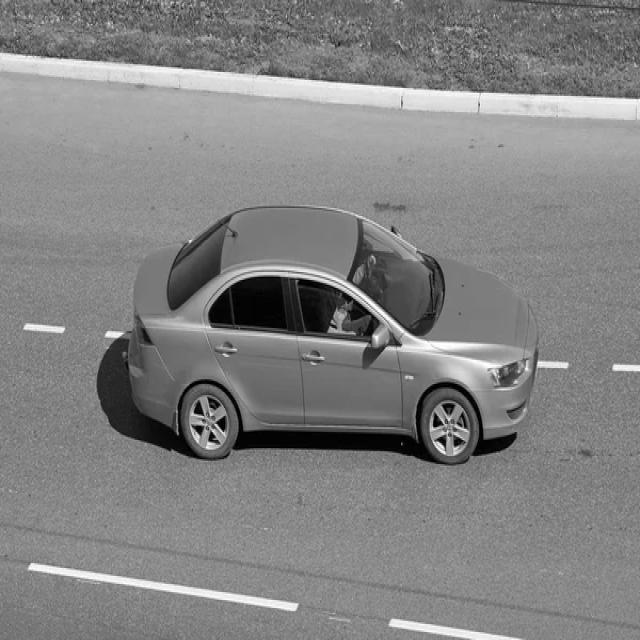Car: (125, 205, 540, 465)
